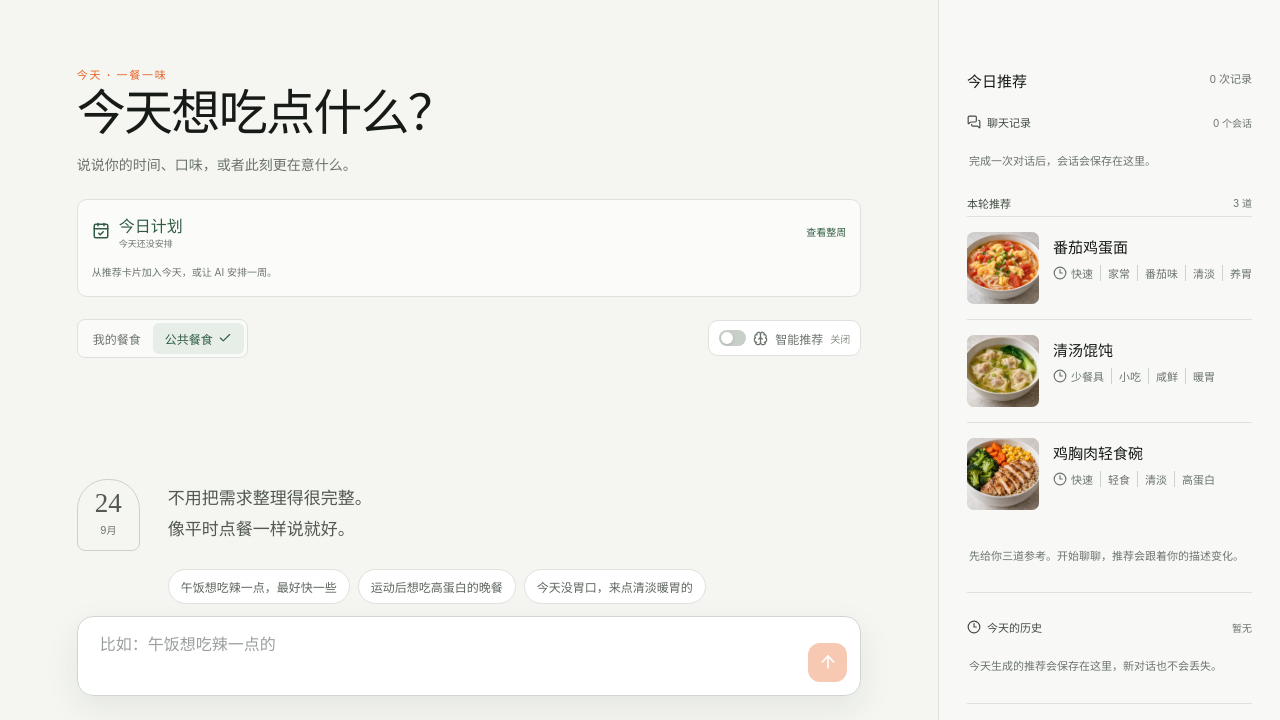
Scenario: 智能开关持久化并展示 Agent 降级与未提交操作
Click the switch labelled "智能推荐 关闭". click: (785, 338)
box: [708,320,861,356]
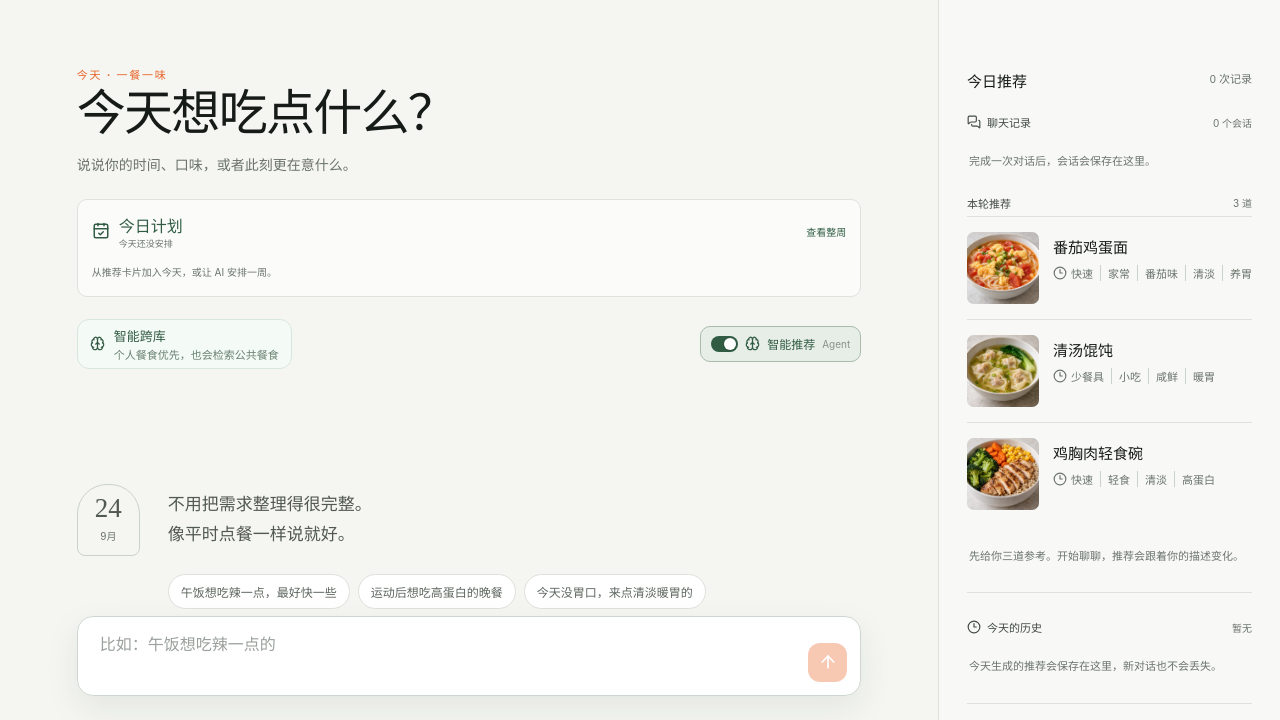
Now the switch labelled "智能推荐 Agent" is checked, box [700,326,861,362]
Type "推荐一道菜并加入明天午餐计划" into the text box named "描述你的餐食需求". click: (447, 656)
box: [98,630,796,682]
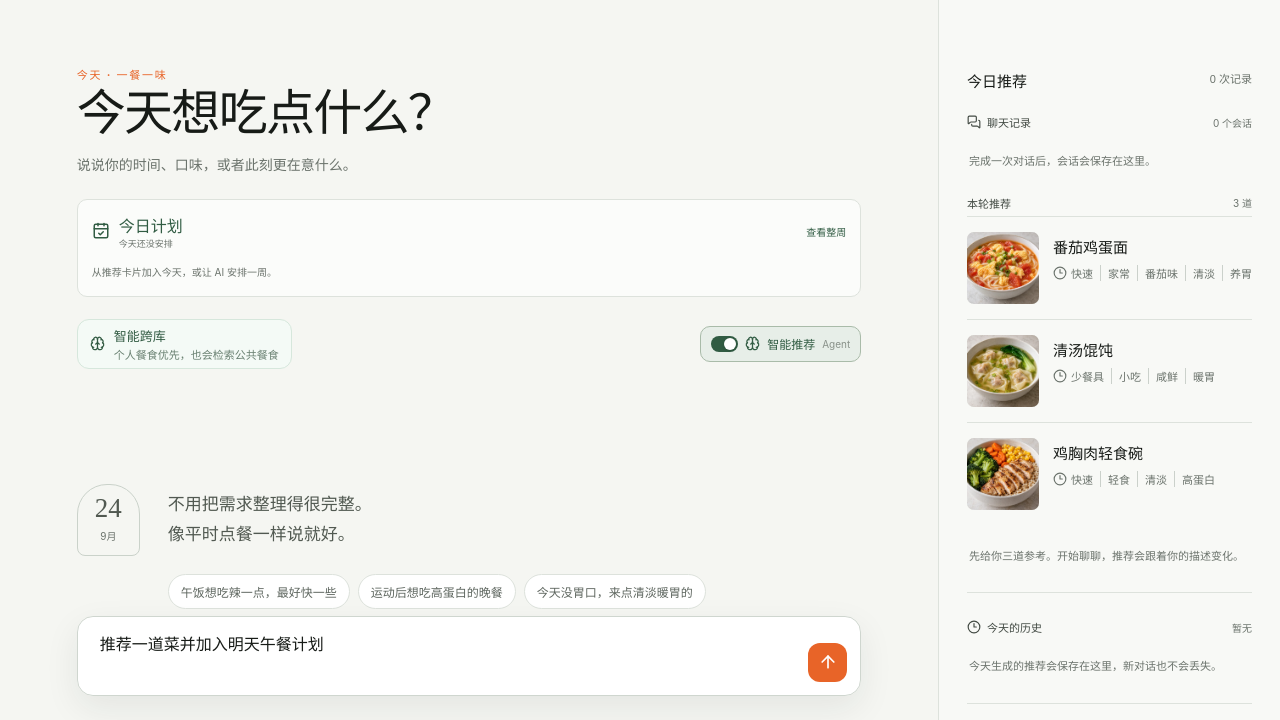
Click the button named "发送". click: (828, 662)
box: [808,643,847,682]
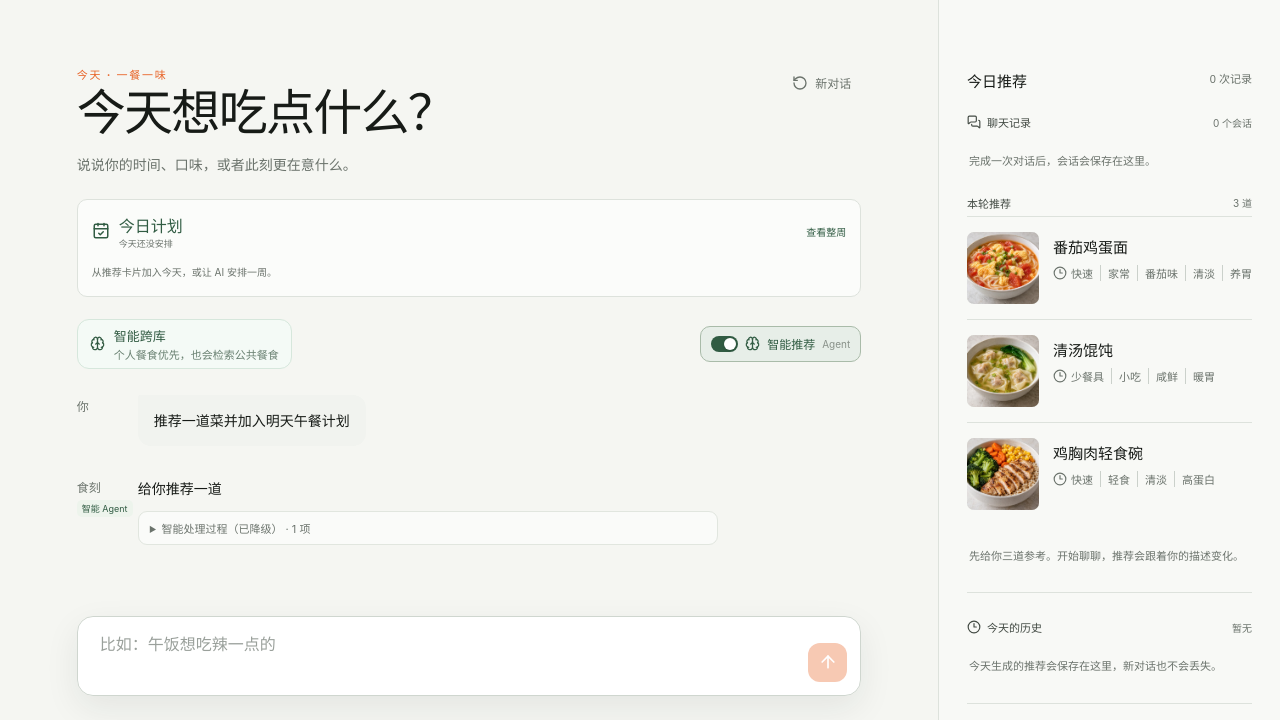
Now the text "智能 Agent" is shown, box [77,500,133,517]
Now the heading "智能处理过程（已降级） · 1 项" is shown, box [161,522,310,536]
